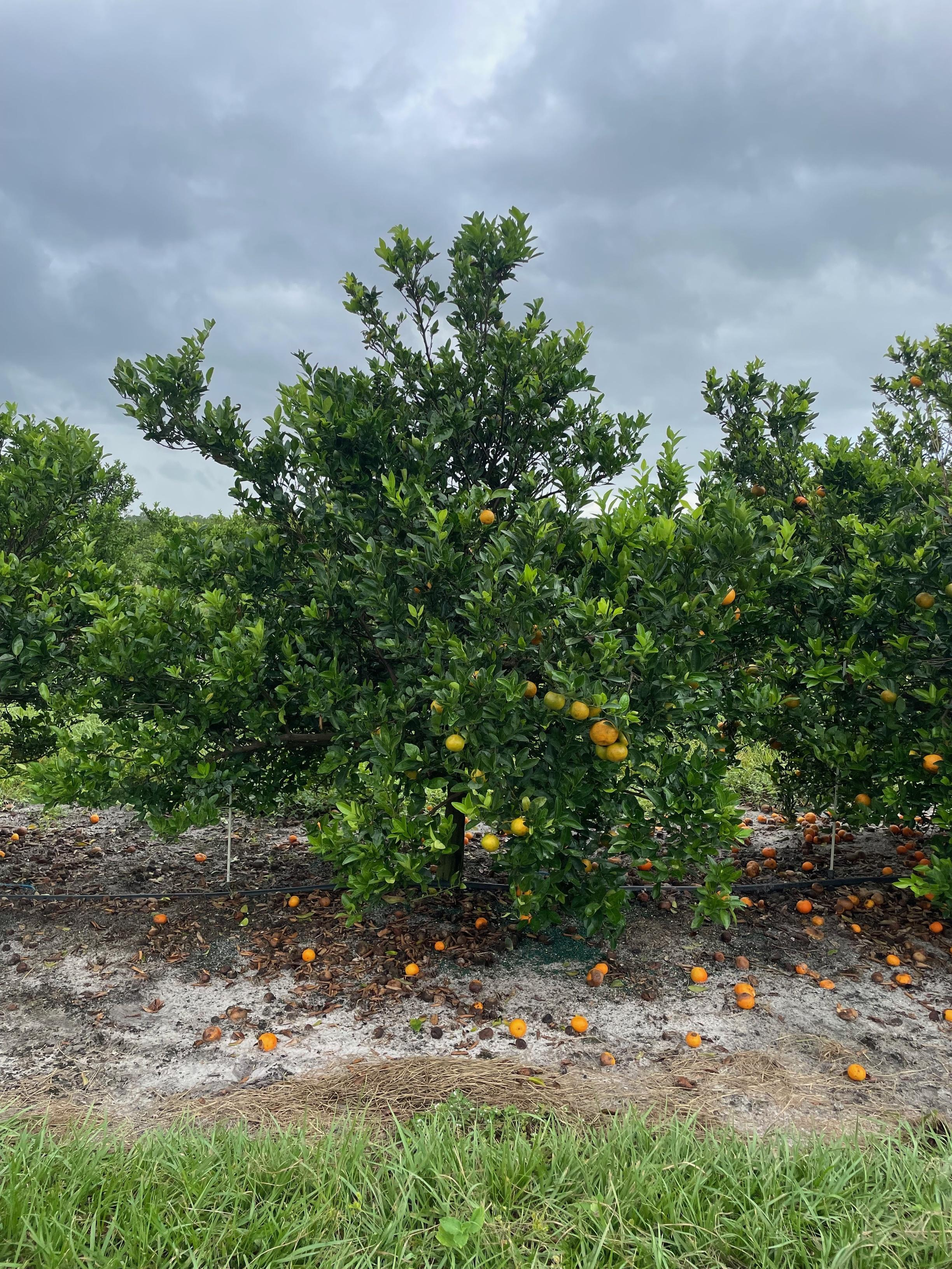fruit_on_ground: (590, 720, 618, 745), (592, 739, 617, 763), (541, 689, 567, 712), (581, 697, 605, 720), (609, 727, 633, 750), (410, 575, 435, 597), (605, 741, 630, 763), (524, 622, 546, 646), (921, 752, 945, 774), (716, 585, 739, 607), (913, 589, 936, 611), (568, 697, 590, 720), (444, 731, 466, 753), (509, 815, 532, 836), (695, 625, 717, 646), (476, 506, 498, 527), (480, 832, 502, 853), (499, 815, 520, 836), (464, 666, 485, 687), (598, 829, 620, 849), (467, 766, 488, 786), (520, 678, 540, 699), (878, 687, 899, 705), (812, 482, 831, 501), (428, 697, 448, 715), (749, 481, 768, 499), (906, 371, 925, 389), (782, 693, 802, 710), (725, 606, 743, 624), (854, 791, 873, 808), (714, 889, 732, 905), (402, 765, 420, 781), (635, 856, 653, 872), (578, 856, 594, 874), (791, 493, 809, 509), (369, 724, 384, 738), (768, 736, 783, 750), (715, 720, 728, 732)
fruit_on_tree: (585, 965, 608, 986), (733, 987, 756, 1008), (257, 1031, 279, 1052), (507, 1017, 529, 1037), (846, 1062, 868, 1082), (202, 1024, 222, 1044), (570, 1014, 589, 1033), (733, 979, 753, 997), (684, 1030, 703, 1048), (690, 965, 709, 982), (228, 1004, 248, 1020), (599, 1050, 617, 1066), (403, 961, 420, 977), (744, 860, 761, 876), (733, 954, 750, 970), (301, 946, 317, 963), (467, 977, 483, 993), (928, 919, 945, 934), (836, 897, 854, 911), (818, 976, 836, 990), (870, 890, 885, 906), (796, 897, 812, 912), (895, 971, 912, 985), (809, 926, 827, 939), (286, 894, 301, 909), (845, 893, 861, 907), (474, 915, 490, 929), (517, 910, 534, 923), (471, 1000, 486, 1014), (863, 896, 877, 911), (153, 911, 168, 925), (656, 898, 672, 911), (794, 961, 810, 974), (761, 845, 777, 858), (802, 811, 819, 823), (941, 1005, 952, 1023), (810, 880, 825, 893), (762, 856, 777, 869), (917, 855, 932, 868), (886, 953, 901, 966), (912, 949, 926, 962), (637, 890, 651, 903), (317, 894, 331, 907), (802, 827, 817, 839), (894, 844, 910, 855), (712, 949, 725, 962), (433, 938, 446, 951), (870, 970, 884, 982), (919, 897, 933, 909), (922, 889, 936, 901), (912, 850, 926, 862), (905, 858, 919, 870), (812, 913, 826, 925), (193, 851, 207, 863), (880, 864, 894, 876), (800, 860, 814, 872), (287, 832, 299, 845), (740, 895, 753, 907), (88, 813, 101, 825), (850, 921, 863, 933), (901, 825, 914, 837), (737, 819, 751, 830), (829, 832, 841, 844), (754, 898, 766, 910), (427, 862, 439, 874), (16, 825, 28, 837), (843, 829, 855, 841), (729, 843, 742, 854), (90, 844, 103, 855), (760, 802, 774, 812), (9, 830, 21, 841), (464, 829, 475, 841), (742, 835, 754, 846), (124, 843, 137, 853), (393, 907, 406, 917), (887, 824, 900, 834), (903, 841, 916, 851), (811, 834, 822, 845), (913, 813, 924, 824), (755, 813, 767, 823), (795, 815, 806, 825), (424, 803, 434, 813), (779, 815, 790, 824), (836, 828, 847, 837), (804, 834, 814, 843), (462, 836, 471, 845), (0, 848, 6, 859), (771, 811, 779, 818)
